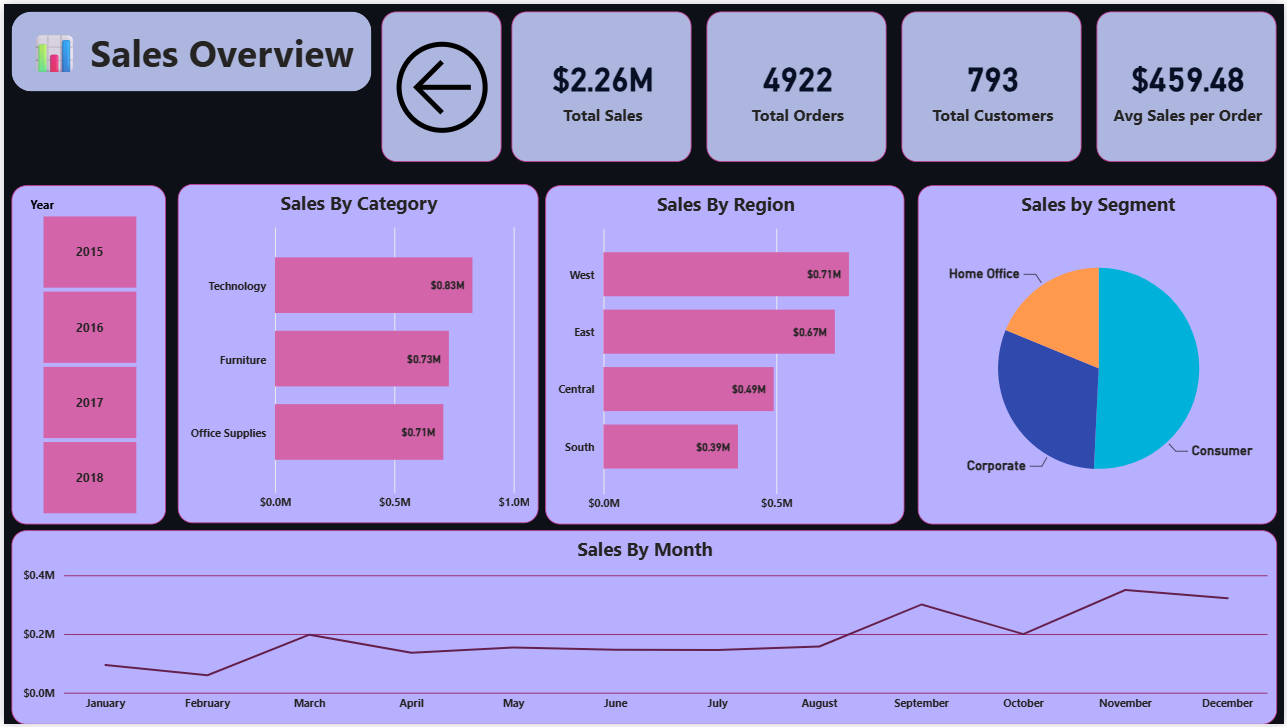

This screenshot's page, from the dashboard's own definition file:
{"tool":"powerbi","page":{"name":"📊 Sales Overview","canvas":[1280,720],"ordinal":1},"visuals":[{"type":"shape","box":[7.1,7.1,360,80],"z":0},{"type":"card","fields":{"Values":["_All Measures.Total Sales"]},"box":[507.9,7.2,180.3,150],"z":1000},{"type":"card","fields":{"Values":["_All Measures.Total Orders"]},"box":[702.6,7.2,180.3,150],"z":2000},{"type":"card","fields":{"Values":["_All Measures.Total Customers"]},"box":[897.4,7.2,180.3,150],"z":3000},{"type":"card","fields":{"Values":["_All Measures.Avg Sales per Order"]},"box":[1092.2,7.2,180.3,150],"z":4000},{"type":"slicer","fields":{"Values":["Date Table.Year"]},"box":[7.2,181,154.4,339],"z":5000},{"type":"clusteredBarChart","title":"Sales By Category","fields":{"Y":["_All Measures.Total Sales"],"Category":["train.Category"]},"box":[173.1,180.3,360.7,339],"z":6000},{"type":"lineChart","title":"Sales By Month","fields":{"Category":["Date Table.Month Name"],"Y":["_All Measures.Total Sales"]},"box":[7.2,525.8,1265.6,194.2],"z":7000},{"type":"clusteredBarChart","title":"Sales By Region","fields":{"Y":["_All Measures.Total Sales"],"Category":["train.Region"]},"box":[541.7,181,359.5,339],"z":8000},{"type":"pieChart","title":"Sales by Segment","fields":{"Y":["_All Measures.Total Sales"],"Category":["train.Segment"]},"box":[913.3,181,359.5,339],"z":9000},{"type":"actionButton","box":[378,7.2,120,150],"z":10000}]}

Visuals, with their boxes in screenshot pixels (x1, y1, x2, y2), scaled from the page's 1280x720 canvas onto the 1287x727 screenshot:
shape: [7, 7, 369, 88]
card - _All Measures.Total Sales: [511, 7, 692, 159]
card - _All Measures.Total Orders: [706, 7, 888, 159]
card - _All Measures.Total Customers: [902, 7, 1084, 159]
card - _All Measures.Avg Sales per Order: [1098, 7, 1279, 159]
slicer - Date Table.Year: [7, 183, 162, 525]
"Sales By Category" clusteredBarChart: [174, 182, 537, 524]
"Sales By Month" lineChart: [7, 531, 1280, 726]
"Sales By Region" clusteredBarChart: [545, 183, 906, 525]
"Sales by Segment" pieChart: [918, 183, 1280, 525]
actionButton: [380, 7, 501, 159]
